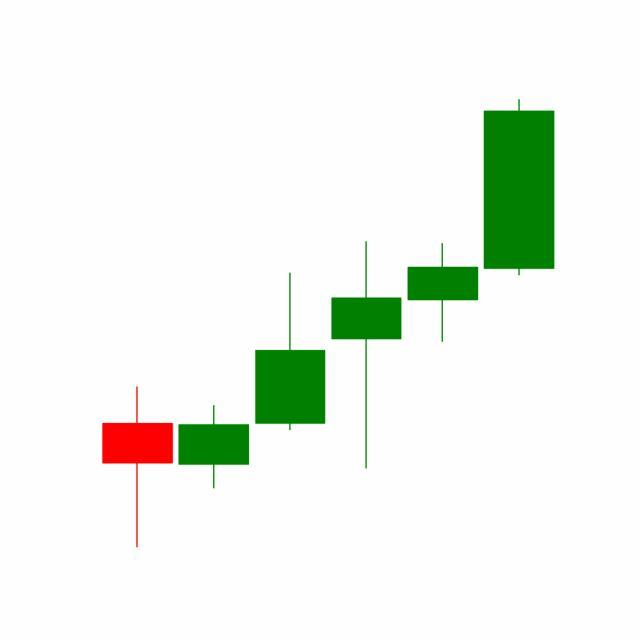Hikkake Pattern: (175, 100, 555, 494)
